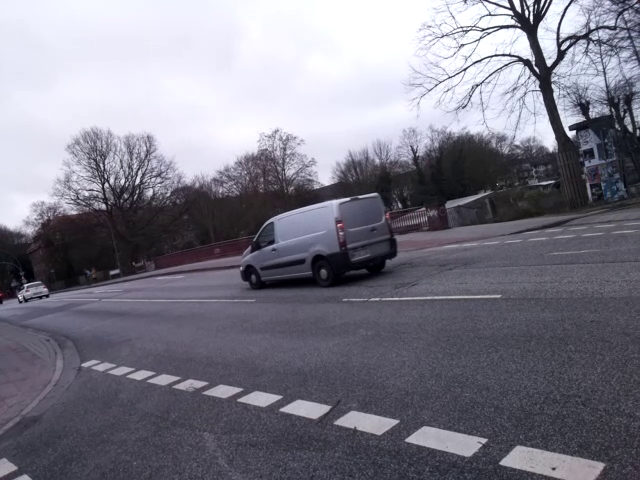car: (231, 190, 413, 286)
